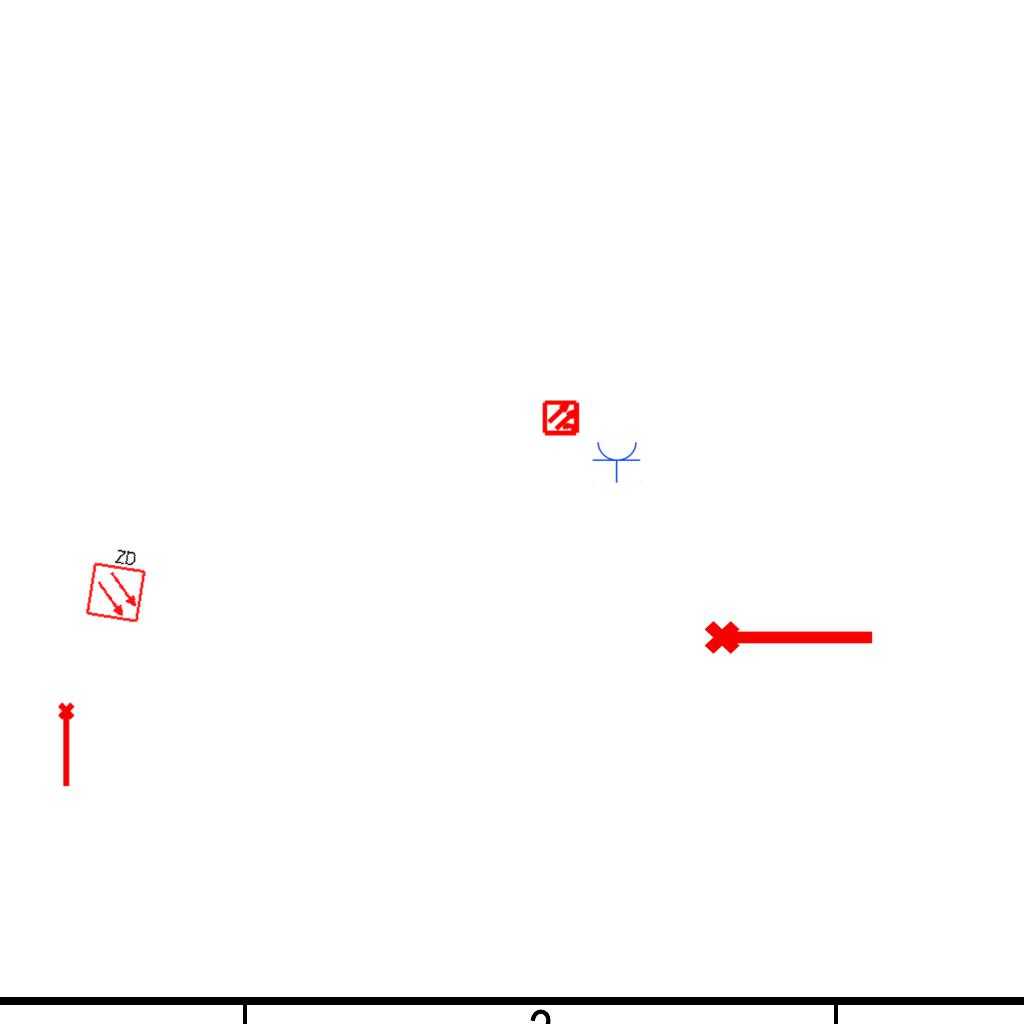ASR_Ansaugoeffnung: (702, 612, 878, 658), (56, 701, 79, 789)
OT_Multisensormelder_(Kombination_RMO_WMD): (534, 390, 590, 446)
Schukosteckdose_einfach: (592, 440, 642, 483)
ZD_Melder_in_Zwischendecke_mit_Revisionsoeffnung_mind_40_x_40_cm: (82, 541, 151, 625)
